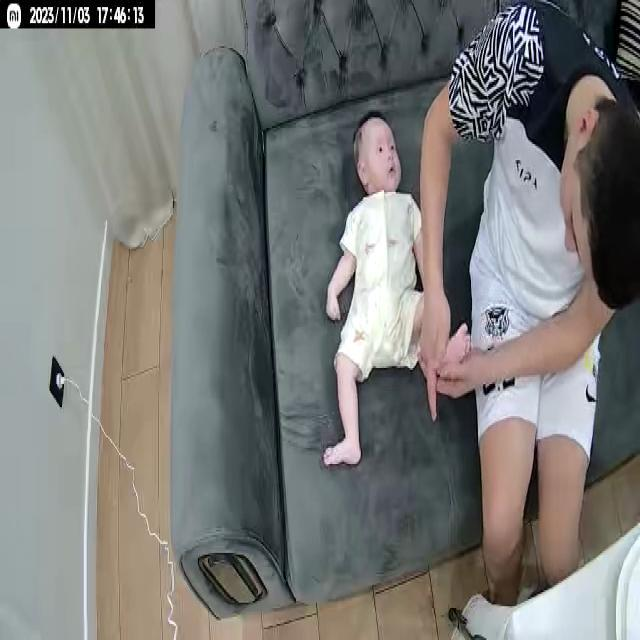baby: (324, 110, 471, 470)
